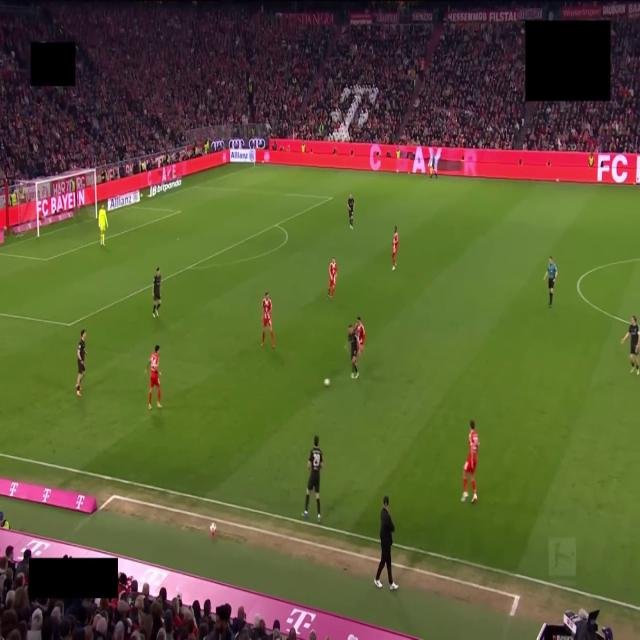ball: (324, 379, 329, 387)
player: (303, 436, 323, 522), (462, 420, 478, 503), (621, 316, 639, 375), (147, 345, 161, 409), (261, 292, 274, 348), (76, 329, 86, 396), (348, 325, 359, 378), (153, 268, 161, 317), (98, 205, 107, 246), (355, 317, 365, 353), (328, 257, 336, 300), (392, 226, 398, 270), (348, 194, 354, 230)
referee: (544, 256, 557, 308)
